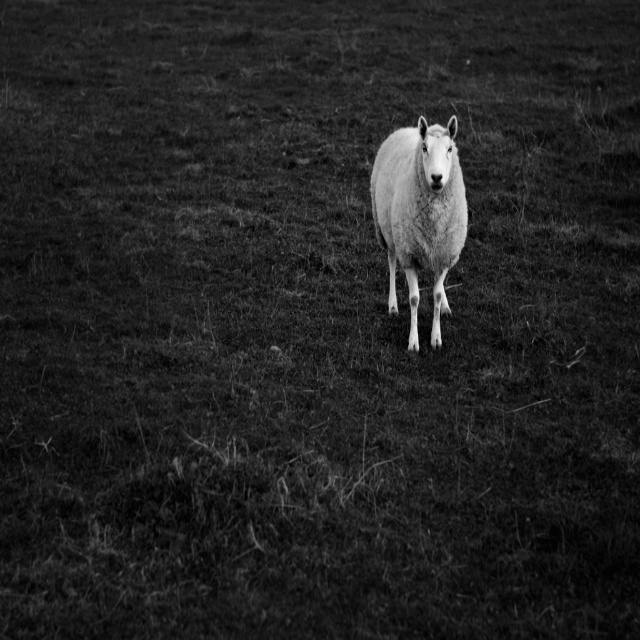Sheep: (370, 115, 469, 353)
